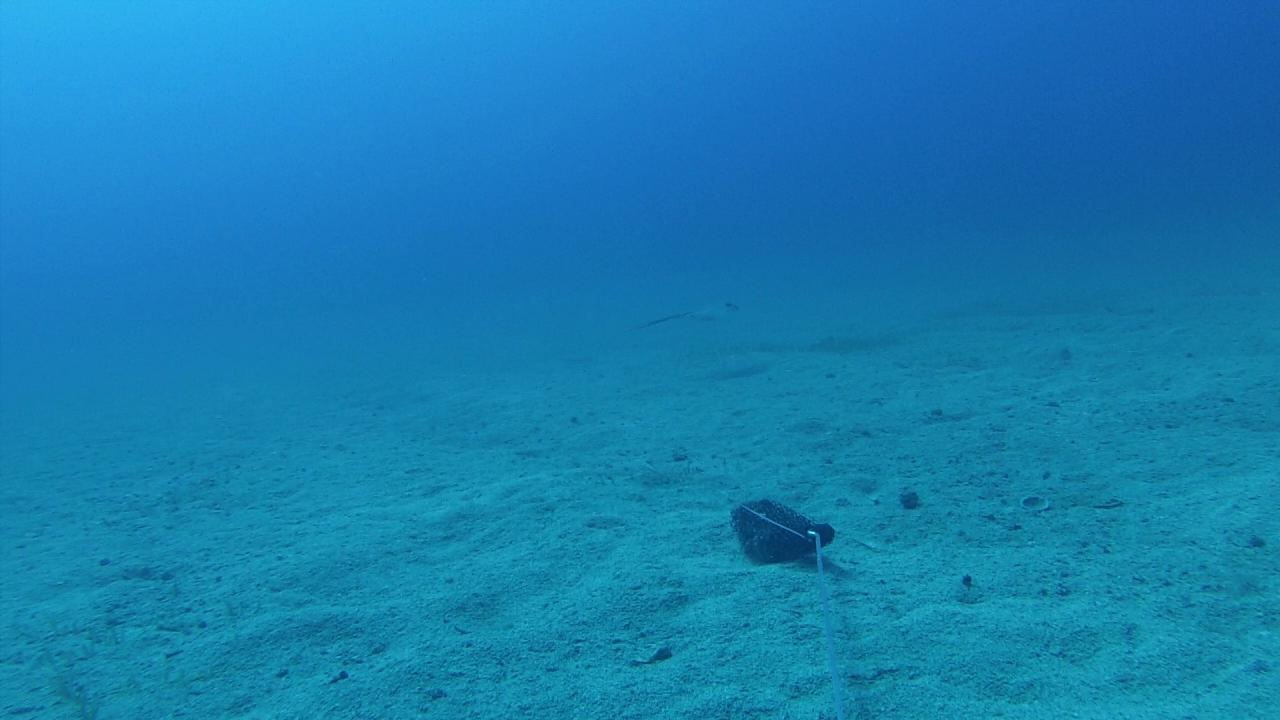dasyatis: (634, 300, 738, 330)
